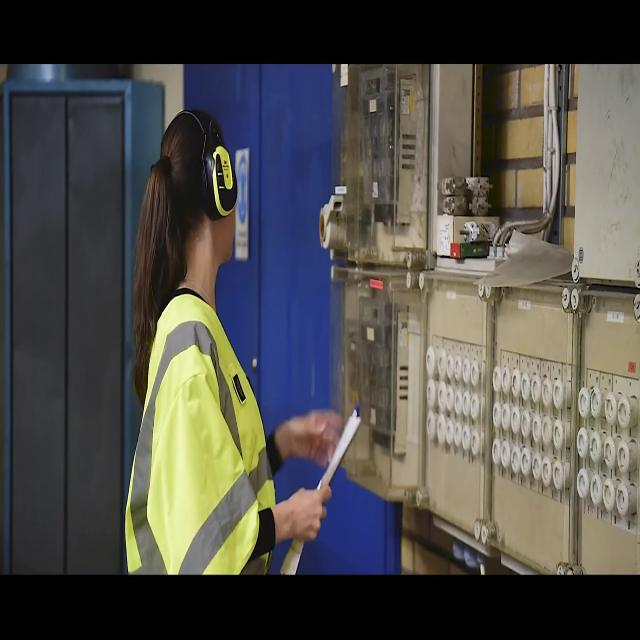earmuff: (198, 136, 240, 227)
